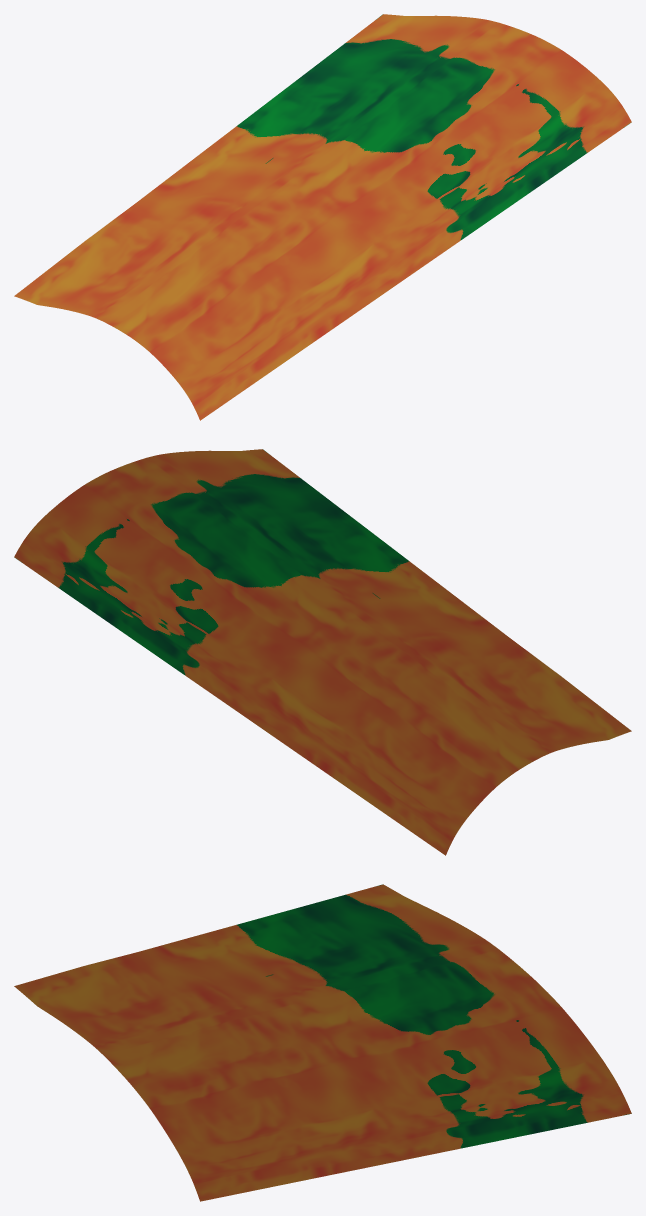
The model's file is p_trashbot_end_sprinkler04_pose0.fbx.
3 renders of one model, top to bottom at view 1: azimuth 30°, elevation 25°; view 2: azimuth 150°, elevation 25°; view 3: azimuth 330°, elevation 25°, orthographic.
Visible parts, largest first — view 1: p_sprinkler_end_plane_04_pose0; view 2: p_sprinkler_end_plane_04_pose0; view 3: p_sprinkler_end_plane_04_pose0.
Boxes of the visible parts, x1,y1,x2,y2 form: p_sprinkler_end_plane_04_pose0: (14,14,631,420); p_sprinkler_end_plane_04_pose0: (14,449,631,855); p_sprinkler_end_plane_04_pose0: (14,884,631,1201).
Size of the model in its own units: 31.48 by 17.62 by 8.32e-06.
